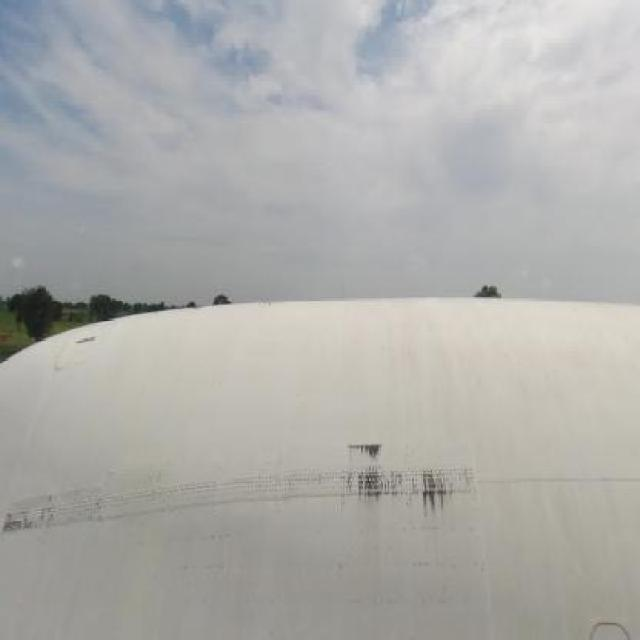Rust: (336, 424, 464, 536)
Scartch: (5, 472, 66, 558)
